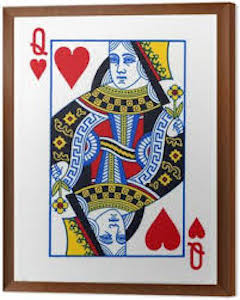QueenOfHearts: (11, 14, 220, 287)
